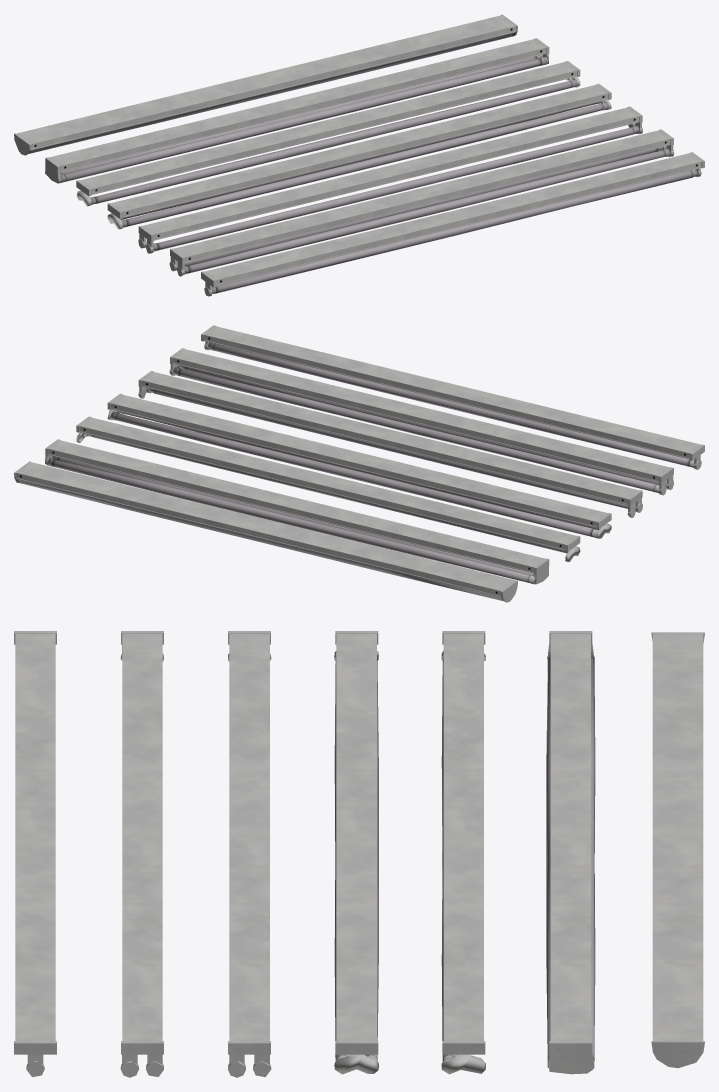
The model's file is mounted_fluorescent_lights.glb.
3 views of the same model, one above another, from view 1: azimuth 30°, elevation 25°; view 2: azimuth 150°, elevation 25°; view 3: azimuth 270°, elevation 25° (orthographic). The views are drawn at different scales.
Parts seen in each view (by area): view 1: mounted_fluorescent_lights_a; view 2: mounted_fluorescent_lights_a; view 3: mounted_fluorescent_lights_a.
Part boxes in pixels (x1,y1,x2,y2): mounted_fluorescent_lights_a: (14, 14, 704, 296); mounted_fluorescent_lights_a: (14, 325, 704, 602); mounted_fluorescent_lights_a: (14, 631, 704, 1077).
Bounding box in the file's own units: 0.9122 × 0.0354 × 0.6454.
Materials: 2 (2 with a texture image).
